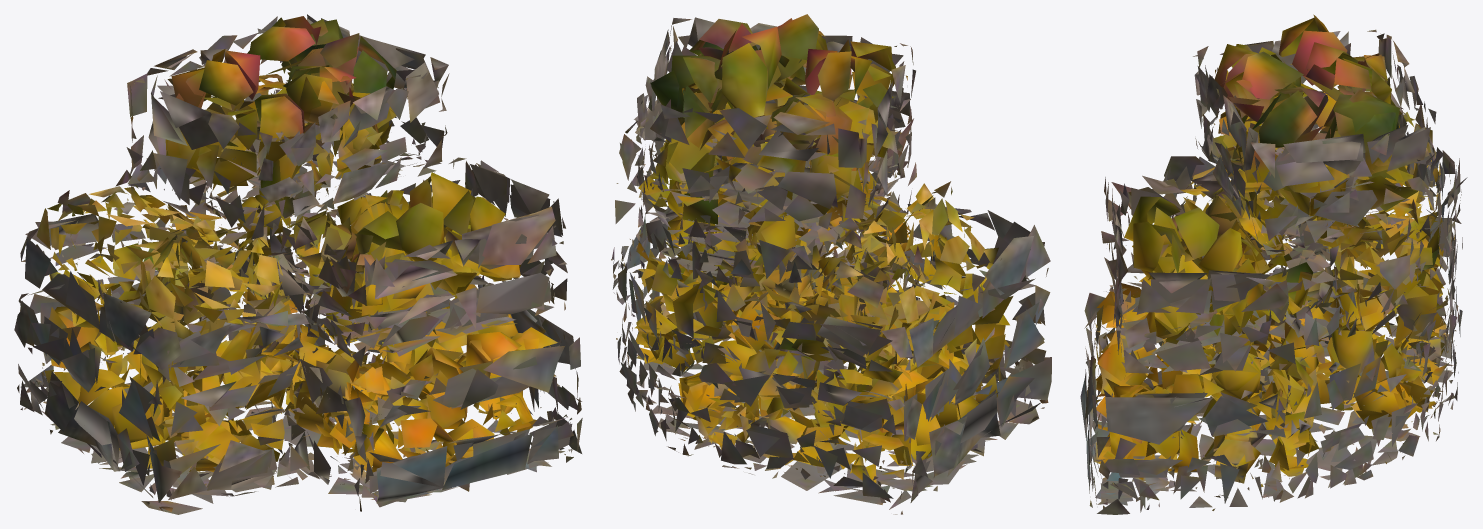
Rendered from market-crates.glb.
3 renders of one model, left to right at view 1: azimuth 30°, elevation 25°; view 2: azimuth 150°, elevation 25°; view 3: azimuth 270°, elevation 25°, orthographic. The views are drawn at different scales.
Parts seen in each view (by area): view 1: Mesh_0; view 2: Mesh_0; view 3: Mesh_0.
Part boxes in pixels (box(x1,y1,x2,y2)): Mesh_0: box(14, 14, 582, 514); Mesh_0: box(611, 14, 1051, 514); Mesh_0: box(1080, 14, 1467, 514).
Bounding box in the file's own units: 1.96 × 1.85 × 1.67.
Materials: 1 (1 with a texture image).
